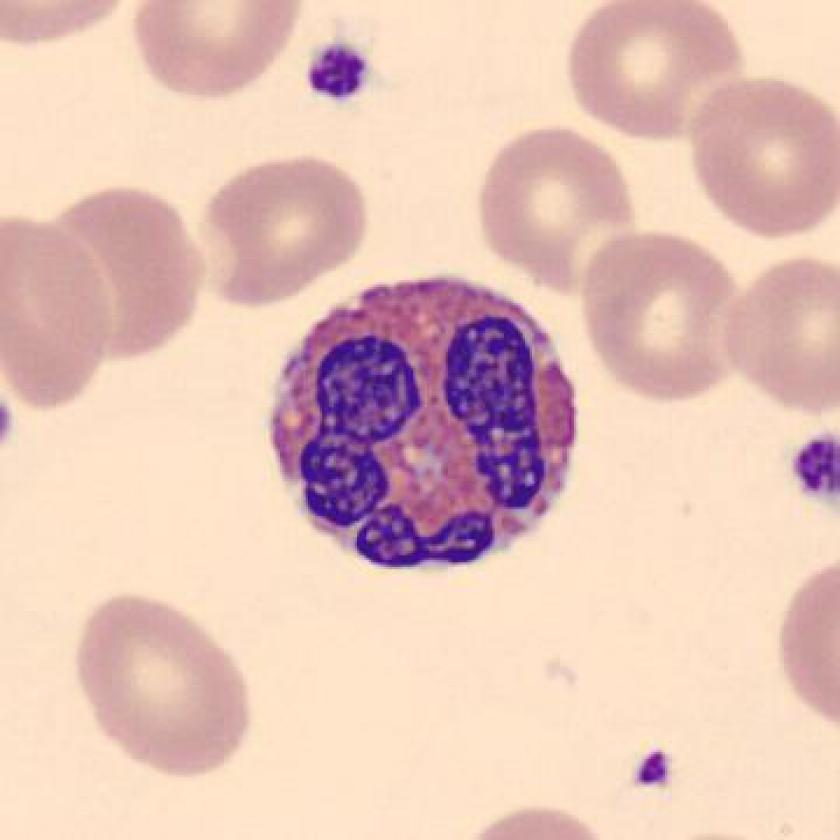eosinophil: (253, 263, 598, 584), (346, 672, 349, 674)
